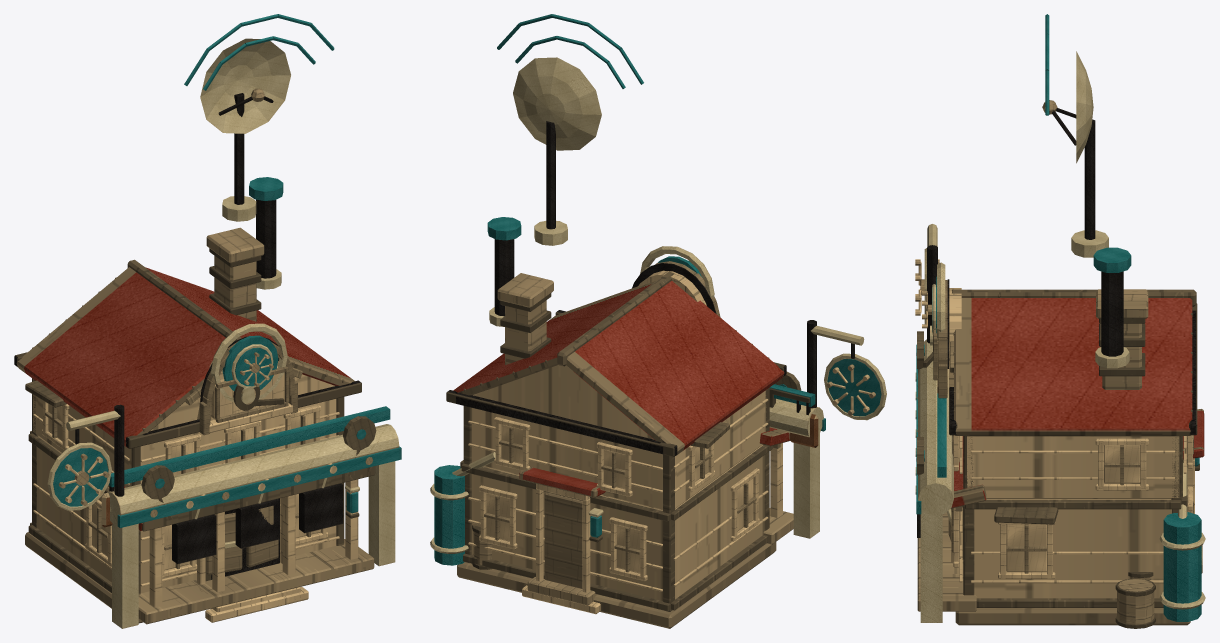
File: tavern.e7.glb
3 renders of one model, left to right at view 1: azimuth 30°, elevation 25°; view 2: azimuth 150°, elevation 25°; view 3: azimuth 270°, elevation 25°, orthographic. The views are drawn at different scales.
Visible parts, largest first — view 1: TownTavernE7NetCafe; view 2: TownTavernE7NetCafe; view 3: TownTavernE7NetCafe.
Boxes of the visible parts, bbox=[...] form: TownTavernE7NetCafe: bbox=[14, 14, 401, 628]; TownTavernE7NetCafe: bbox=[430, 14, 886, 628]; TownTavernE7NetCafe: bbox=[915, 14, 1205, 628].
Bounding box in the file's own units: 5.13 × 7.42 × 3.39.
1 material, 1 textured.
